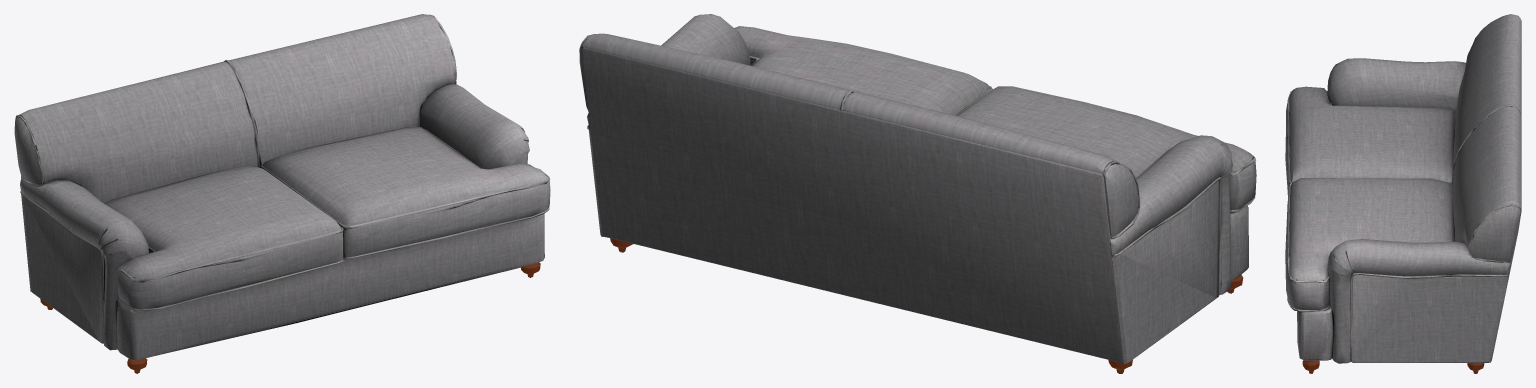
Rendered from sofa.glb.
The picture shows the model from 3 angles, left to right: view 1: azimuth 30°, elevation 25°; view 2: azimuth 150°, elevation 25°; view 3: azimuth 270°, elevation 25°; orthographic projection. The views are drawn at different scales.
Visible parts, largest first — view 1: Orson_3_Seater_Sofa_Bed_FABRIC_0, Orson_3_Seater_Sofa_Bed_LEGS_0; view 2: Orson_3_Seater_Sofa_Bed_FABRIC_0; view 3: Orson_3_Seater_Sofa_Bed_FABRIC_0, Orson_3_Seater_Sofa_Bed_LEGS_0.
Boxes of the visible parts, bbox=[...] form: Orson_3_Seater_Sofa_Bed_FABRIC_0: bbox=[14, 14, 550, 360]; Orson_3_Seater_Sofa_Bed_LEGS_0: bbox=[40, 262, 540, 373]; Orson_3_Seater_Sofa_Bed_FABRIC_0: bbox=[579, 14, 1256, 363]; Orson_3_Seater_Sofa_Bed_FABRIC_0: bbox=[1285, 14, 1521, 363]; Orson_3_Seater_Sofa_Bed_LEGS_0: bbox=[1302, 360, 1484, 373].
Bounding box in the file's own units: 190 × 79.67 × 96.11.
Materials: 3 (1 with a texture image).
